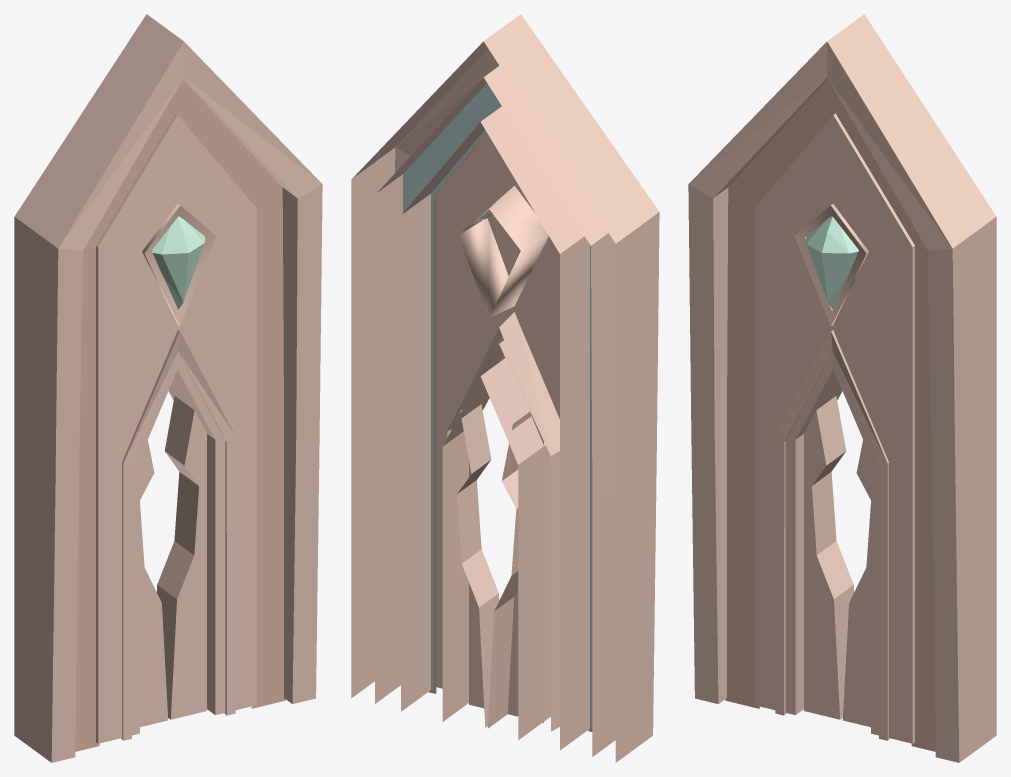
3 renders of one model, left to right at view 1: azimuth 30°, elevation 25°; view 2: azimuth 150°, elevation 25°; view 3: azimuth 330°, elevation 25°, orthographic.
Parts seen in each view (by area): view 1: Object13; view 2: Object13; view 3: Object13.
Part boxes in pixels (bbox=[...]): Object13: bbox=[14, 14, 322, 762]; Object13: bbox=[351, 14, 659, 762]; Object13: bbox=[688, 14, 996, 762].
Size of the model in its own units: 324 by 812 by 99.74.
